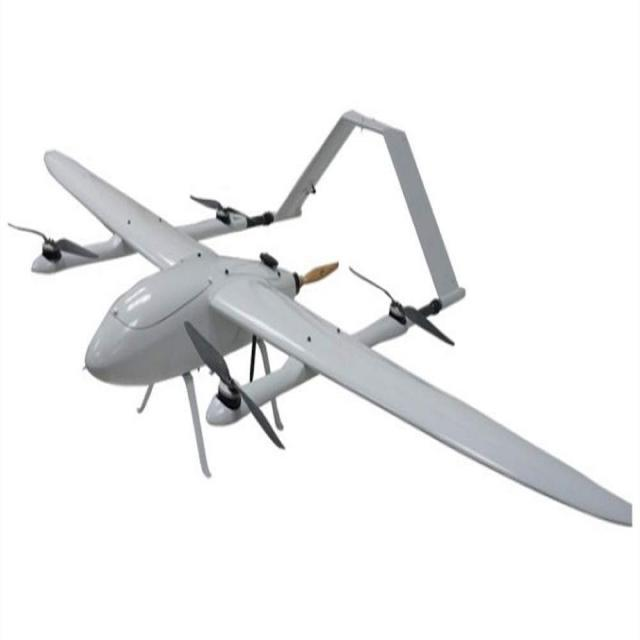UAV: (45, 110, 602, 447)
